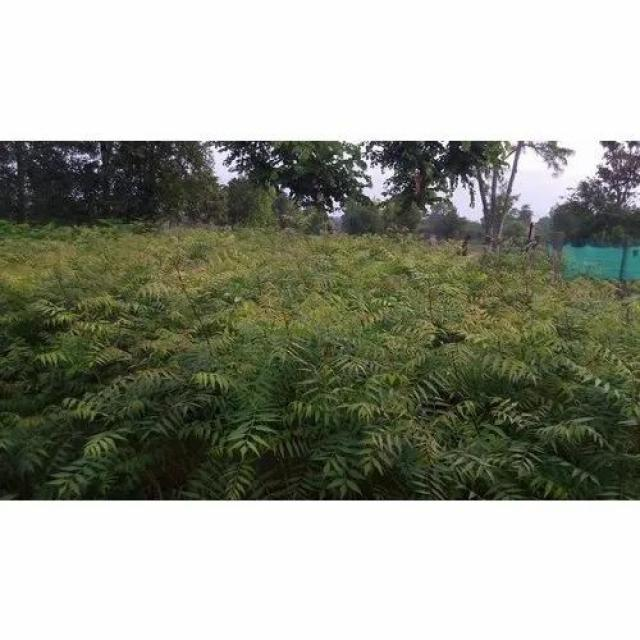Medicinal-Neem: (344, 324, 608, 486), (123, 349, 333, 490), (10, 307, 119, 482)
